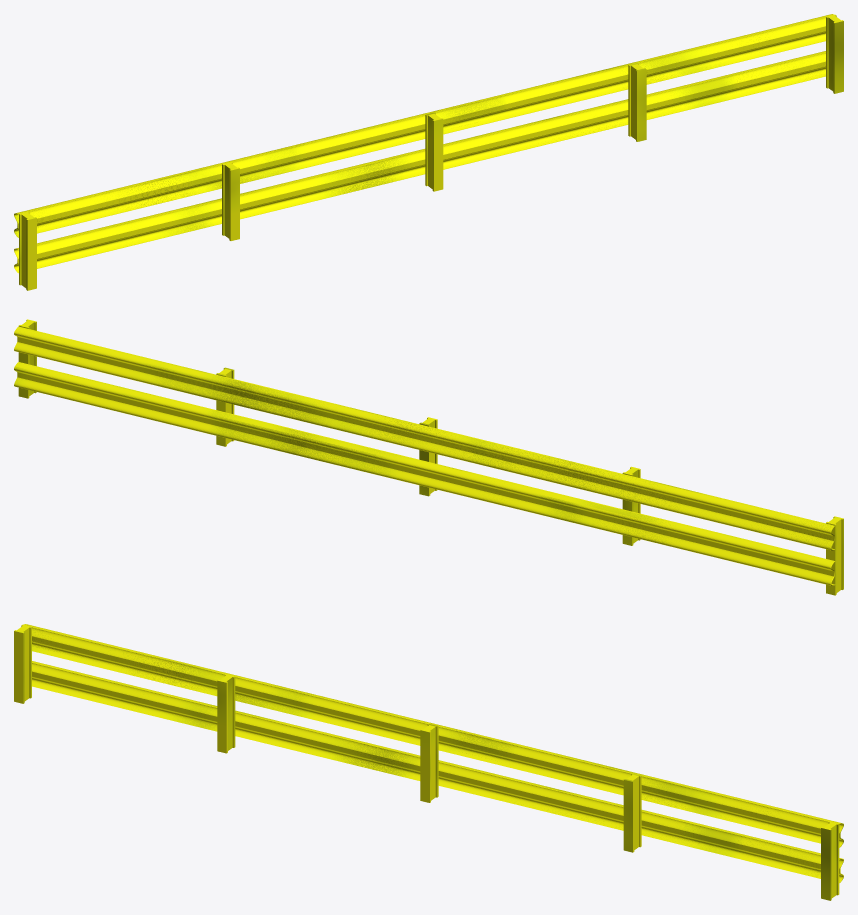
The model's file is yellow_Rail435.obj.
The picture shows the model from 3 angles, top to bottom: view 1: azimuth 30°, elevation 25°; view 2: azimuth 150°, elevation 25°; view 3: azimuth 330°, elevation 25°; orthographic projection.
Visible parts, largest first — view 1: yellow_Rail435:Mesh; view 2: yellow_Rail435:Mesh; view 3: yellow_Rail435:Mesh.
Boxes of the visible parts, x1,y1,x2,y2 form: yellow_Rail435:Mesh: (14, 14, 843, 290); yellow_Rail435:Mesh: (14, 319, 843, 595); yellow_Rail435:Mesh: (14, 624, 843, 900).
Size of the model in its own units: 4.35 by 0.36 by 0.1243.
1 material, 1 textured.
